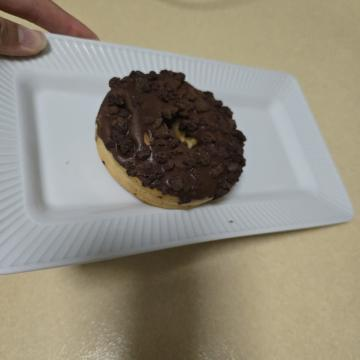doughnut: (59, 105, 220, 268)
